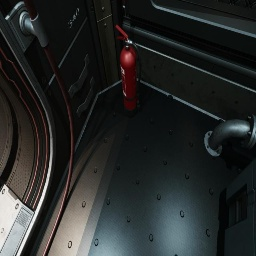FireExtinguisher ]: (116, 24, 142, 117)
